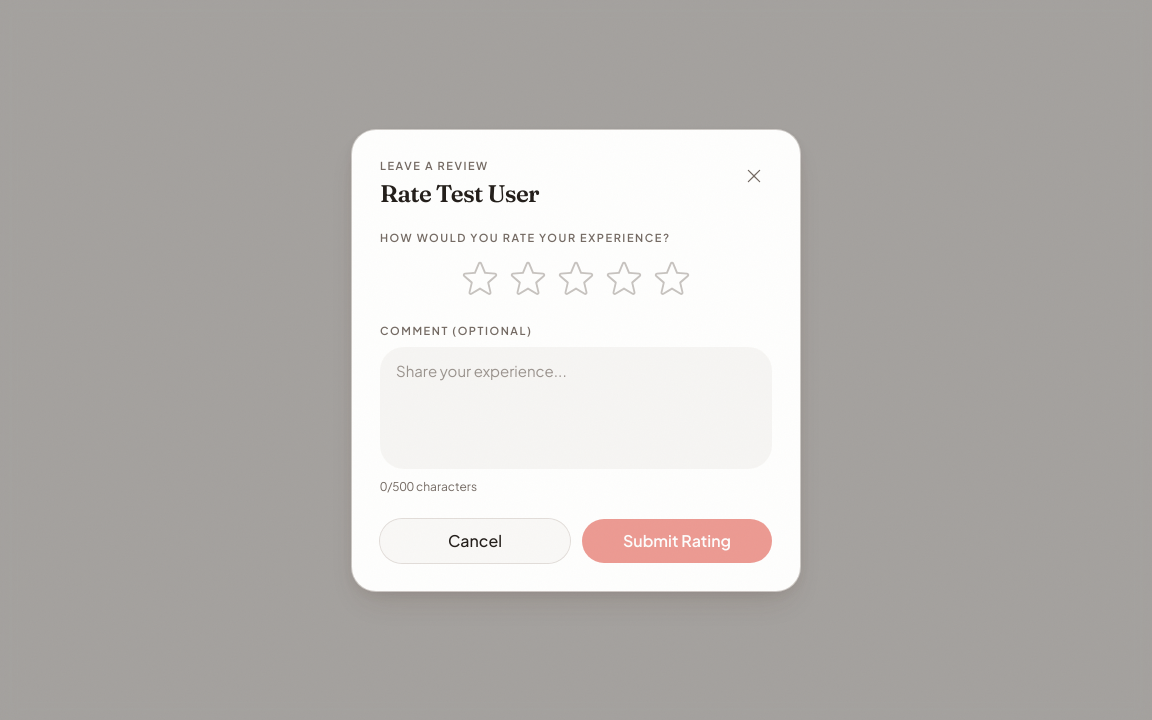
it: RatingModal › enables submit button when rating is selected
Click the button named "Rate 3 stars" at (576, 278), box x1=556 y1=258 x2=596 y2=298
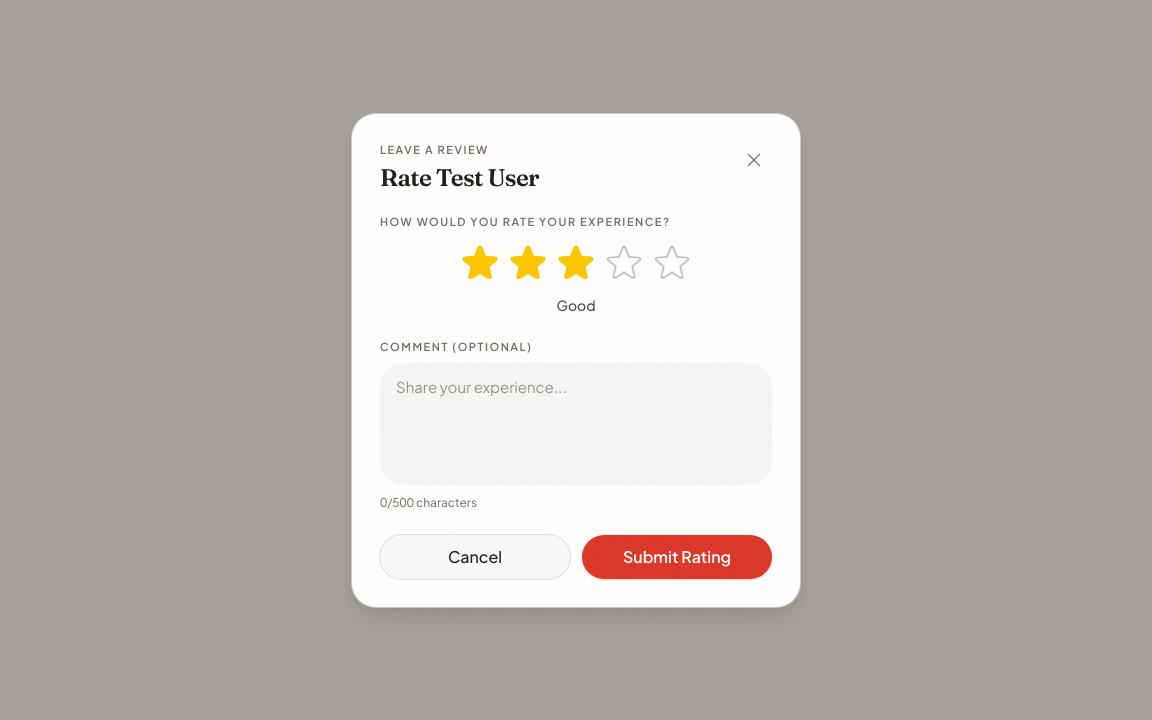
Result: the button "Submit Rating" is enabled at x1=582 y1=534 x2=772 y2=578
